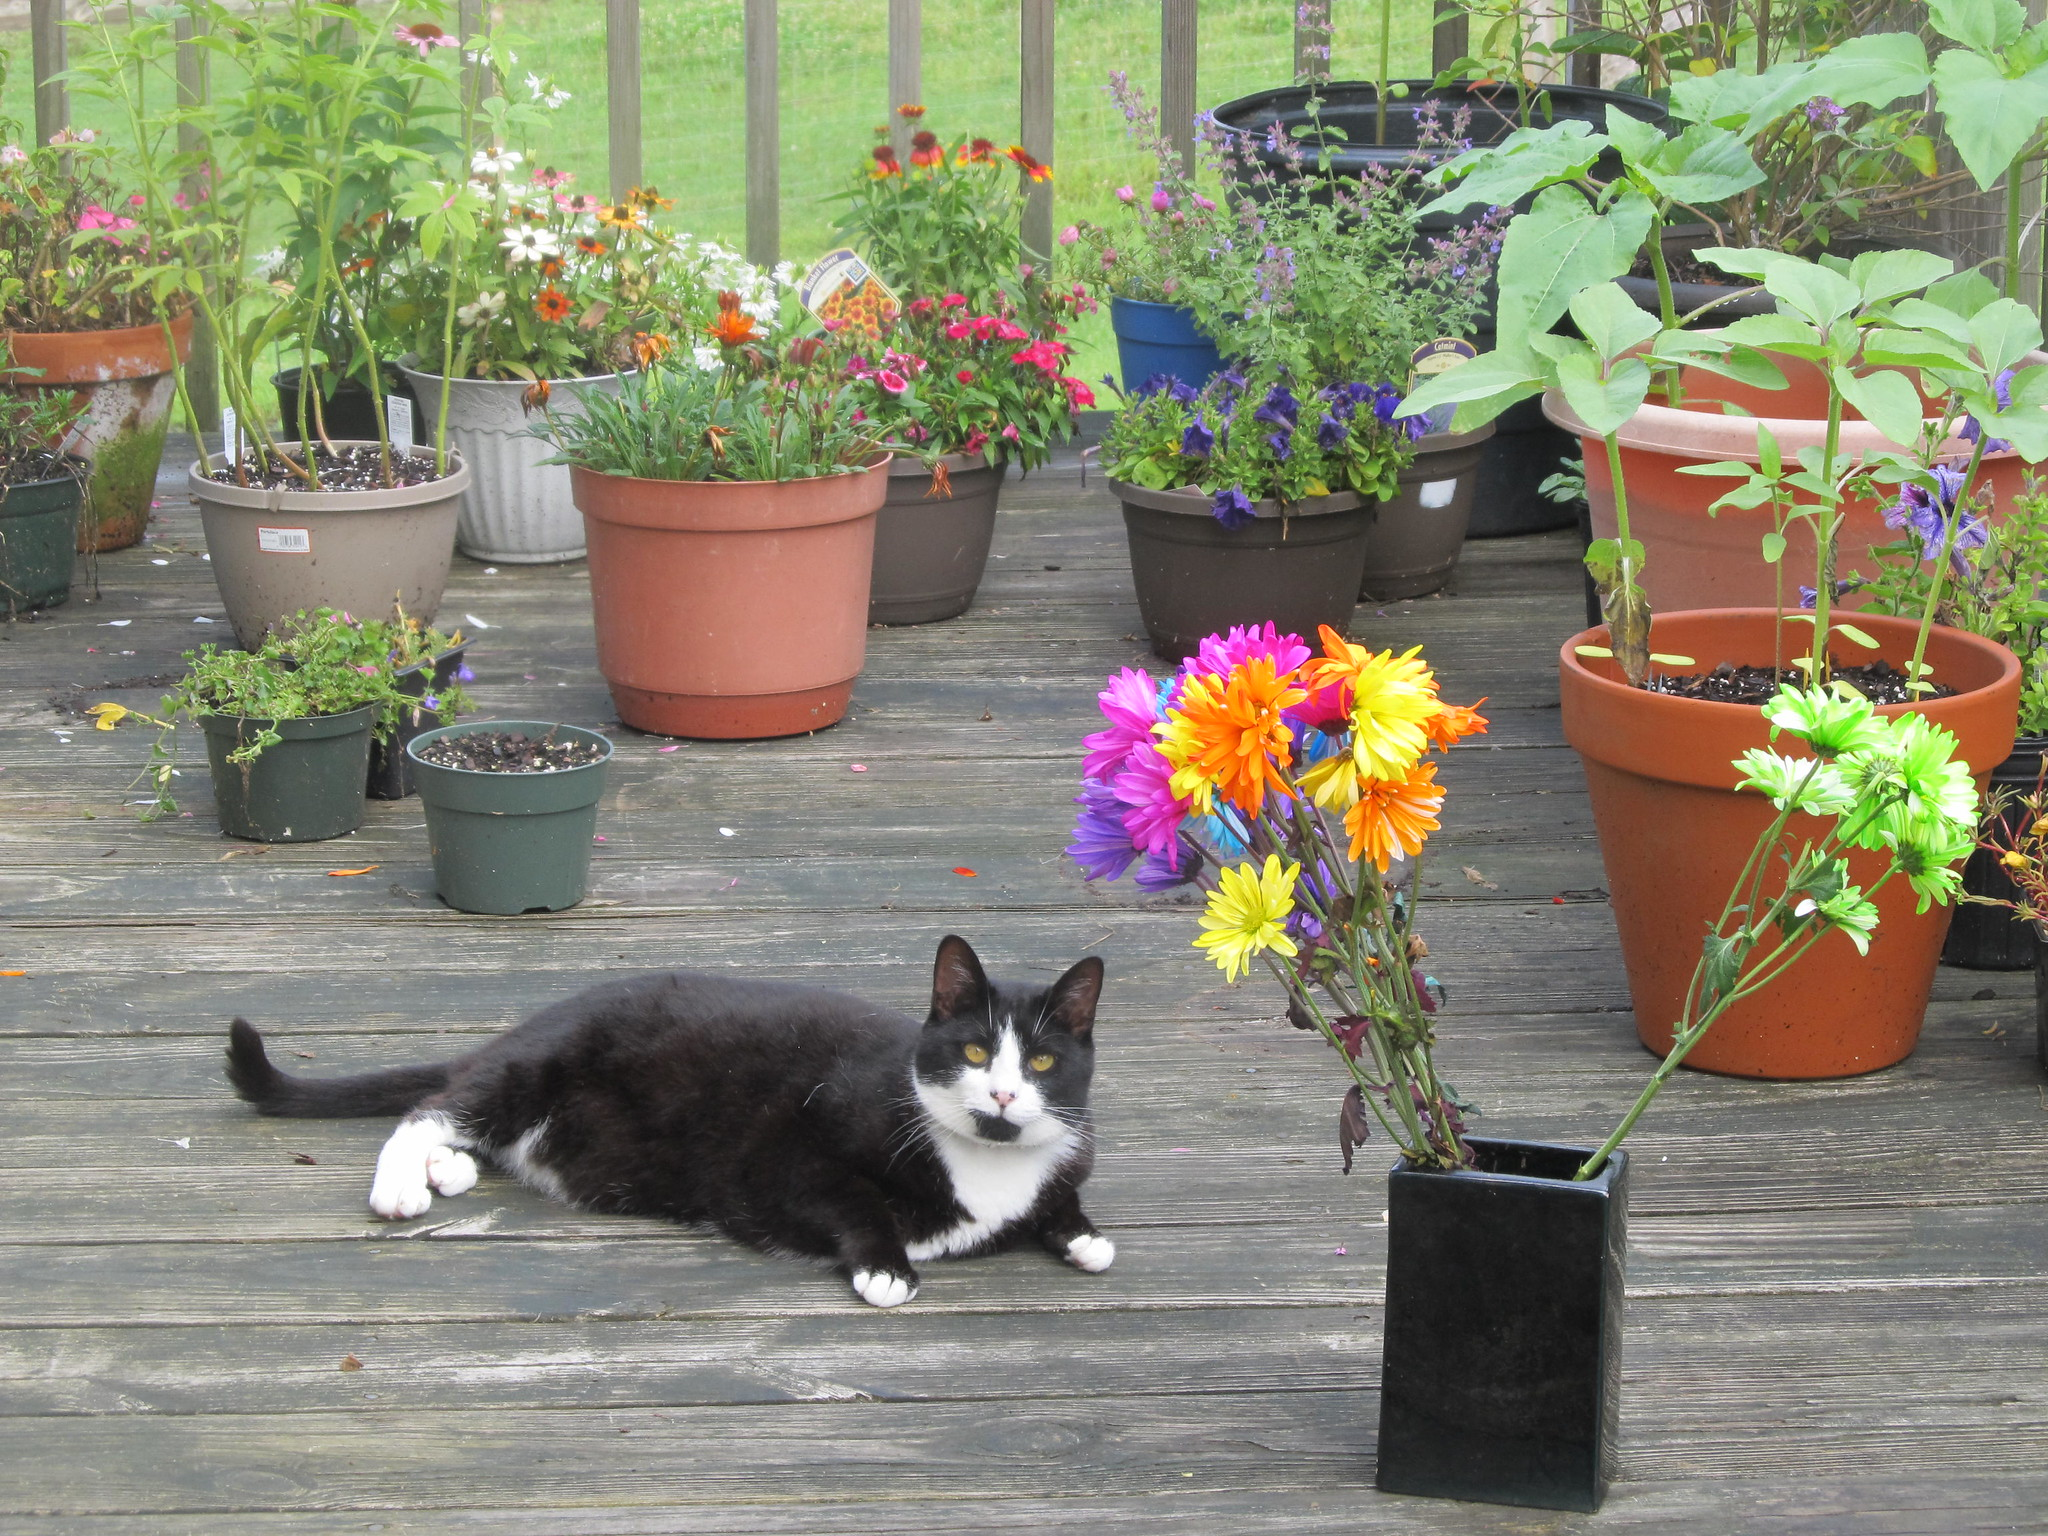cat: (310, 941, 1142, 1341)
potted plant: (1238, 650, 1693, 1515), (1563, 353, 2009, 1092), (569, 332, 893, 736), (1109, 365, 1401, 694), (194, 399, 485, 678), (402, 720, 618, 928), (194, 632, 385, 842)
